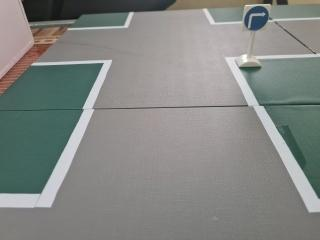right: (242, 1, 270, 34)
